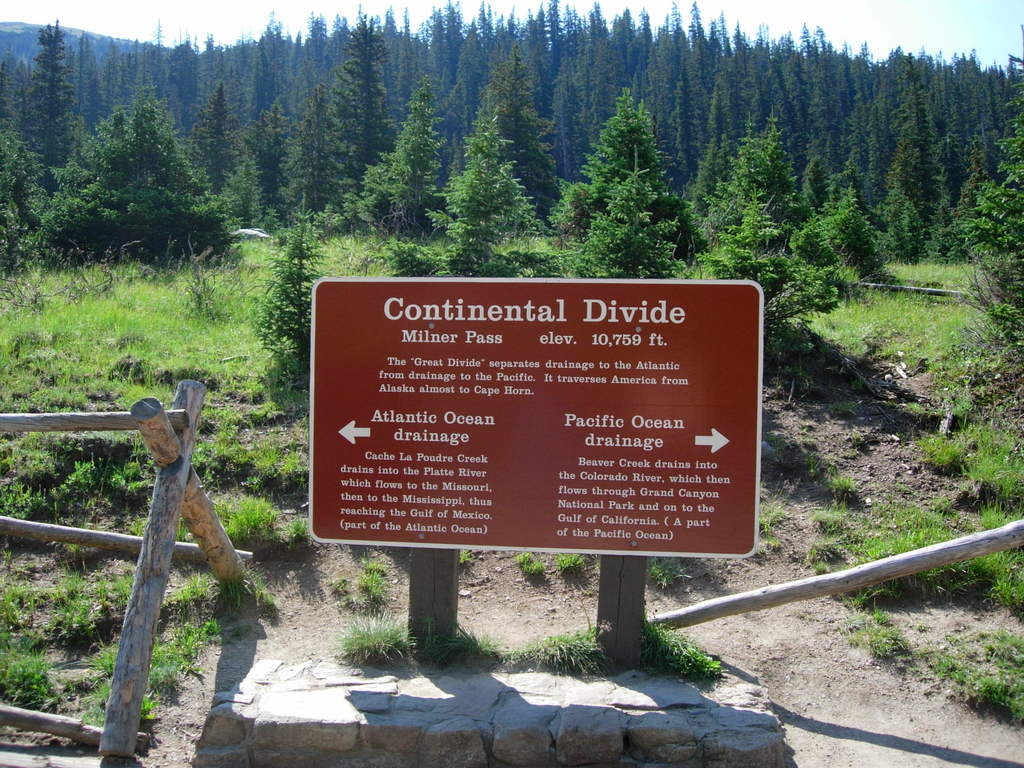Tree: (0, 0, 1023, 398)
